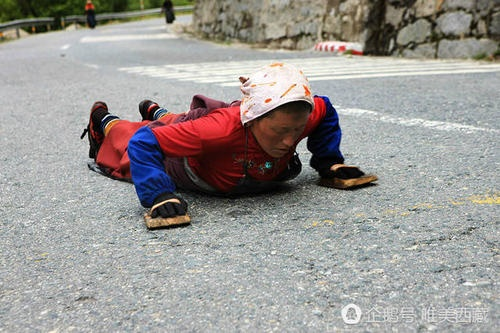falling: (85, 56, 369, 235)
